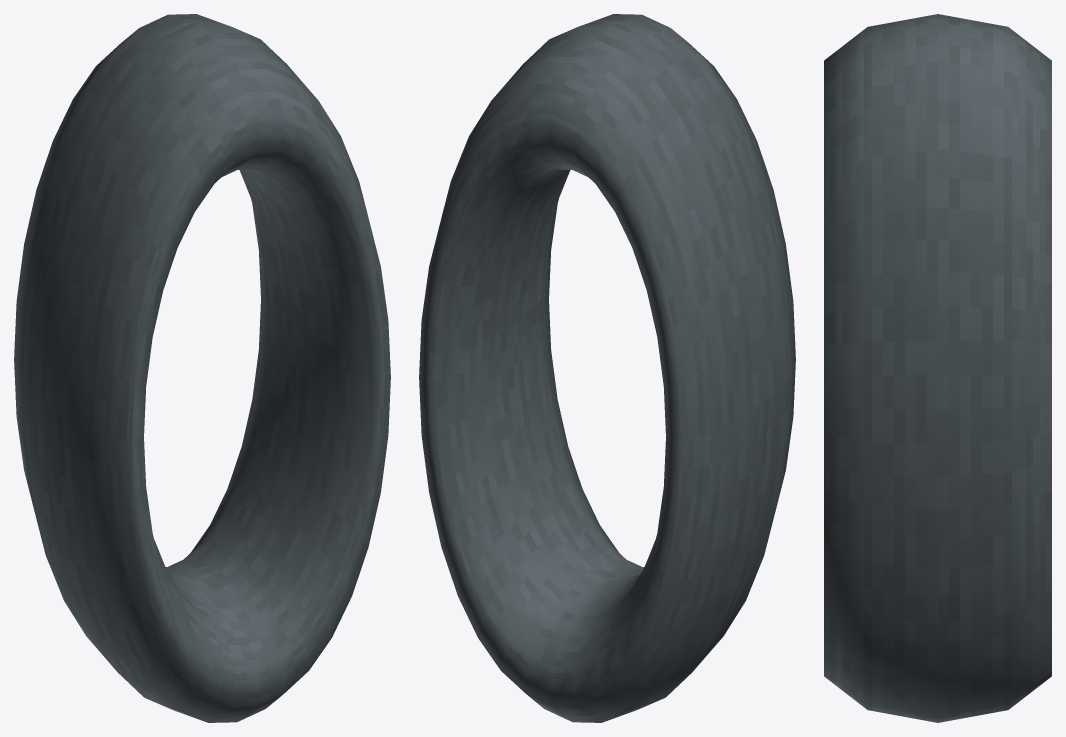
The model's file is lamp-link.glb.
3 renders of one model, left to right at view 1: azimuth 30°, elevation 25°; view 2: azimuth 150°, elevation 25°; view 3: azimuth 270°, elevation 25°, orthographic.
Visible parts, largest first — view 1: loop; view 2: loop; view 3: loop.
Part boxes in pixels (bbox=[...]): loop: bbox=[14, 14, 390, 722]; loop: bbox=[419, 14, 795, 722]; loop: bbox=[824, 14, 1051, 722].
Size of the model in its own units: 0.022 by 0.047 by 0.014.
Materials: 1 (1 with a texture image).
